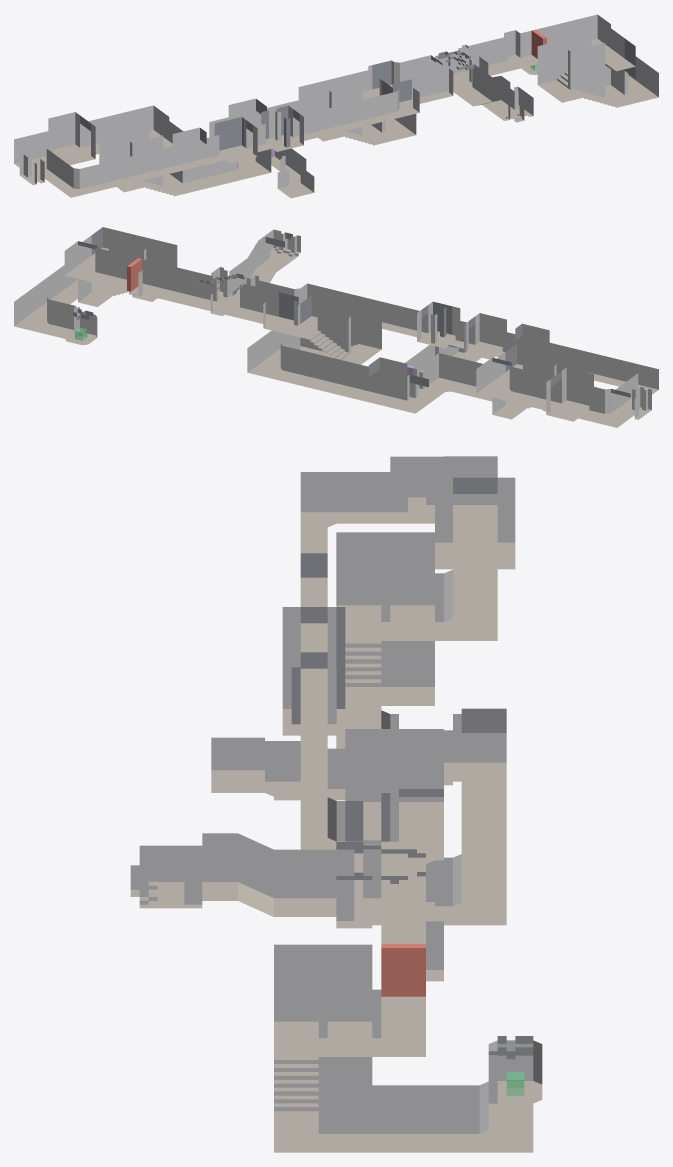
File: outpost_04.glb
3 views of the same model, one above another, from view 1: azimuth 30°, elevation 25°; view 2: azimuth 150°, elevation 25°; view 3: azimuth 270°, elevation 25° (orthographic). The views are drawn at different scales.
Visible parts, largest first — view 1: corridor:8, room:6, corridor:7, corridor:1, room:7, room:8, corridor:3, corridor:6, corridor:2, corridor:0, corridor:5, room:1 (+8 smaller); view 2: corridor:8, corridor:6, corridor:7, room:7, corridor:1, corridor:5, room:6, room:8, corridor:2, corridor:3, corridor:0, room:1 (+7 smaller); view 3: corridor:8, room:8, room:6, corridor:5, corridor:7, corridor:6, corridor:0, room:7, corridor:1, corridor:2, room:2, corridor:4 (+8 smaller).
Boxes of the visible parts, x1,y1,x2,y2 form: corridor:8: (49, 71, 448, 197); room:6: (537, 28, 635, 107); corridor:7: (14, 105, 169, 172); corridor:1: (466, 14, 610, 75); room:7: (298, 70, 392, 145); room:8: (99, 121, 193, 196); corridor:3: (182, 149, 271, 191); corridor:6: (209, 98, 416, 140); corridor:2: (368, 56, 427, 96); corridor:0: (458, 66, 510, 111); corridor:5: (624, 56, 658, 102); room:1: (427, 44, 488, 96); corridor:8: (259, 280, 658, 404); corridor:6: (247, 330, 428, 413); corridor:7: (476, 357, 630, 427); room:7: (286, 295, 381, 364); corridor:1: (64, 241, 208, 307); corridor:5: (14, 265, 101, 338); room:6: (78, 227, 177, 306); room:8: (492, 343, 587, 419); corridor:2: (237, 285, 298, 333); corridor:3: (423, 353, 509, 404); corridor:0: (231, 237, 284, 296); room:1: (198, 267, 258, 317); corridor:8: (282, 472, 390, 890); room:8: (336, 532, 434, 705); room:6: (274, 944, 372, 1129); corridor:5: (274, 1055, 533, 1152); corridor:7: (435, 456, 515, 640); corridor:6: (372, 708, 506, 925); corridor:0: (202, 833, 336, 916); room:7: (345, 729, 443, 845); corridor:1: (372, 921, 443, 1056); corridor:2: (381, 789, 443, 890); room:2: (488, 1036, 542, 1103); corridor:4: (265, 741, 345, 800).
Bounding box in the file's own units: 154 × 17 × 46.
